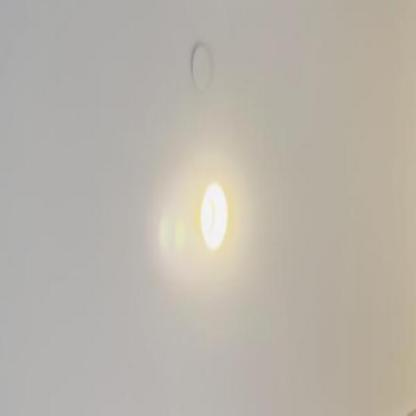light_on: (195, 157, 237, 272)
